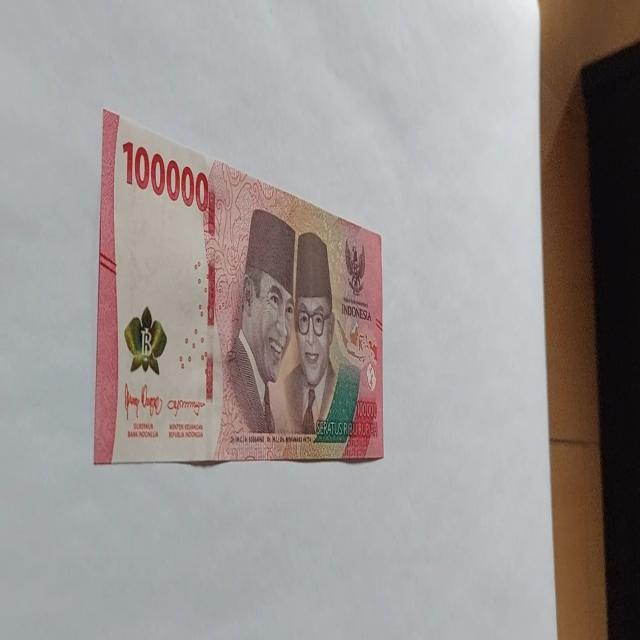seratus ribu rupiah: (93, 106, 385, 466)
